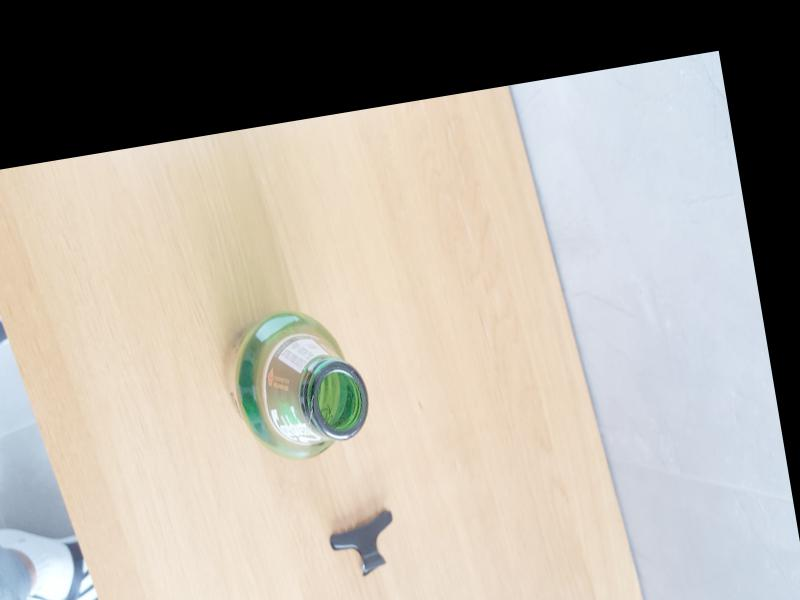Beer: (213, 301, 376, 474)
